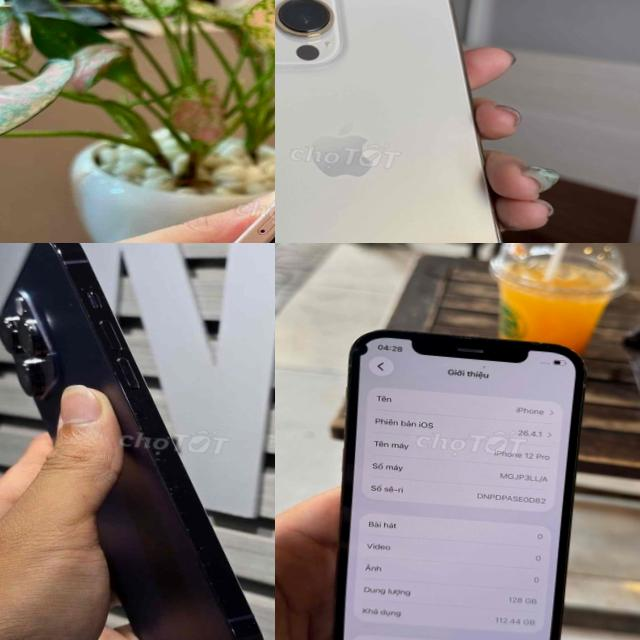gen_12_13: (319, 320, 592, 640), (275, 0, 562, 243), (145, 0, 275, 243)
gen_14: (0, 243, 275, 640)
screen_defect: (345, 328, 399, 379)
